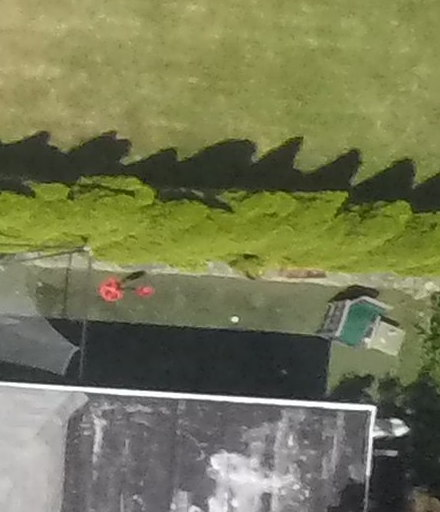chair: (307, 293, 392, 348)
container: (227, 312, 240, 328)
table: (365, 322, 415, 362)
toy: (99, 273, 156, 306)
